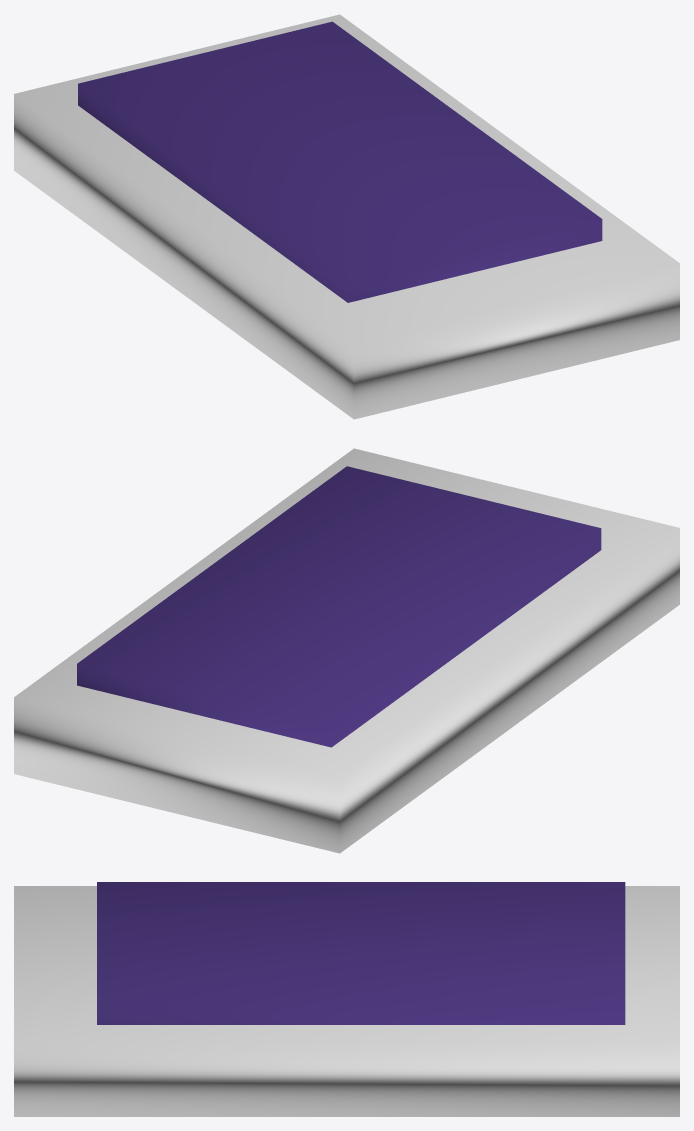
File: plataformatipo1.fbx
3 views of the same model, one above another, from view 1: azimuth 30°, elevation 25°; view 2: azimuth 150°, elevation 25°; view 3: azimuth 270°, elevation 25° (orthographic). The views are drawn at different scales.
Parts seen in each view (by area): view 1: polySurface28; view 2: polySurface28; view 3: polySurface28.
Boxes of the visible parts, box(x1,y1,x2,y2) form: polySurface28: box(14, 14, 679, 419); polySurface28: box(14, 448, 679, 853); polySurface28: box(14, 882, 679, 1116).
Bounding box in the file's own units: 14.31 × 4.14 × 25.86.
